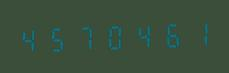five: (45, 22, 72, 54)
four: (17, 23, 44, 55), (129, 19, 156, 51)
one: (185, 17, 212, 49)
seven: (73, 21, 100, 53)
six: (157, 18, 184, 50)
zero: (101, 20, 128, 52)
